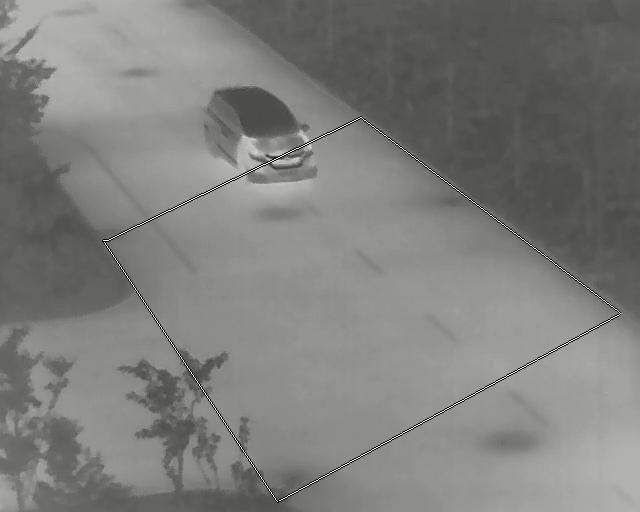vehicle: (205, 85, 318, 182)
